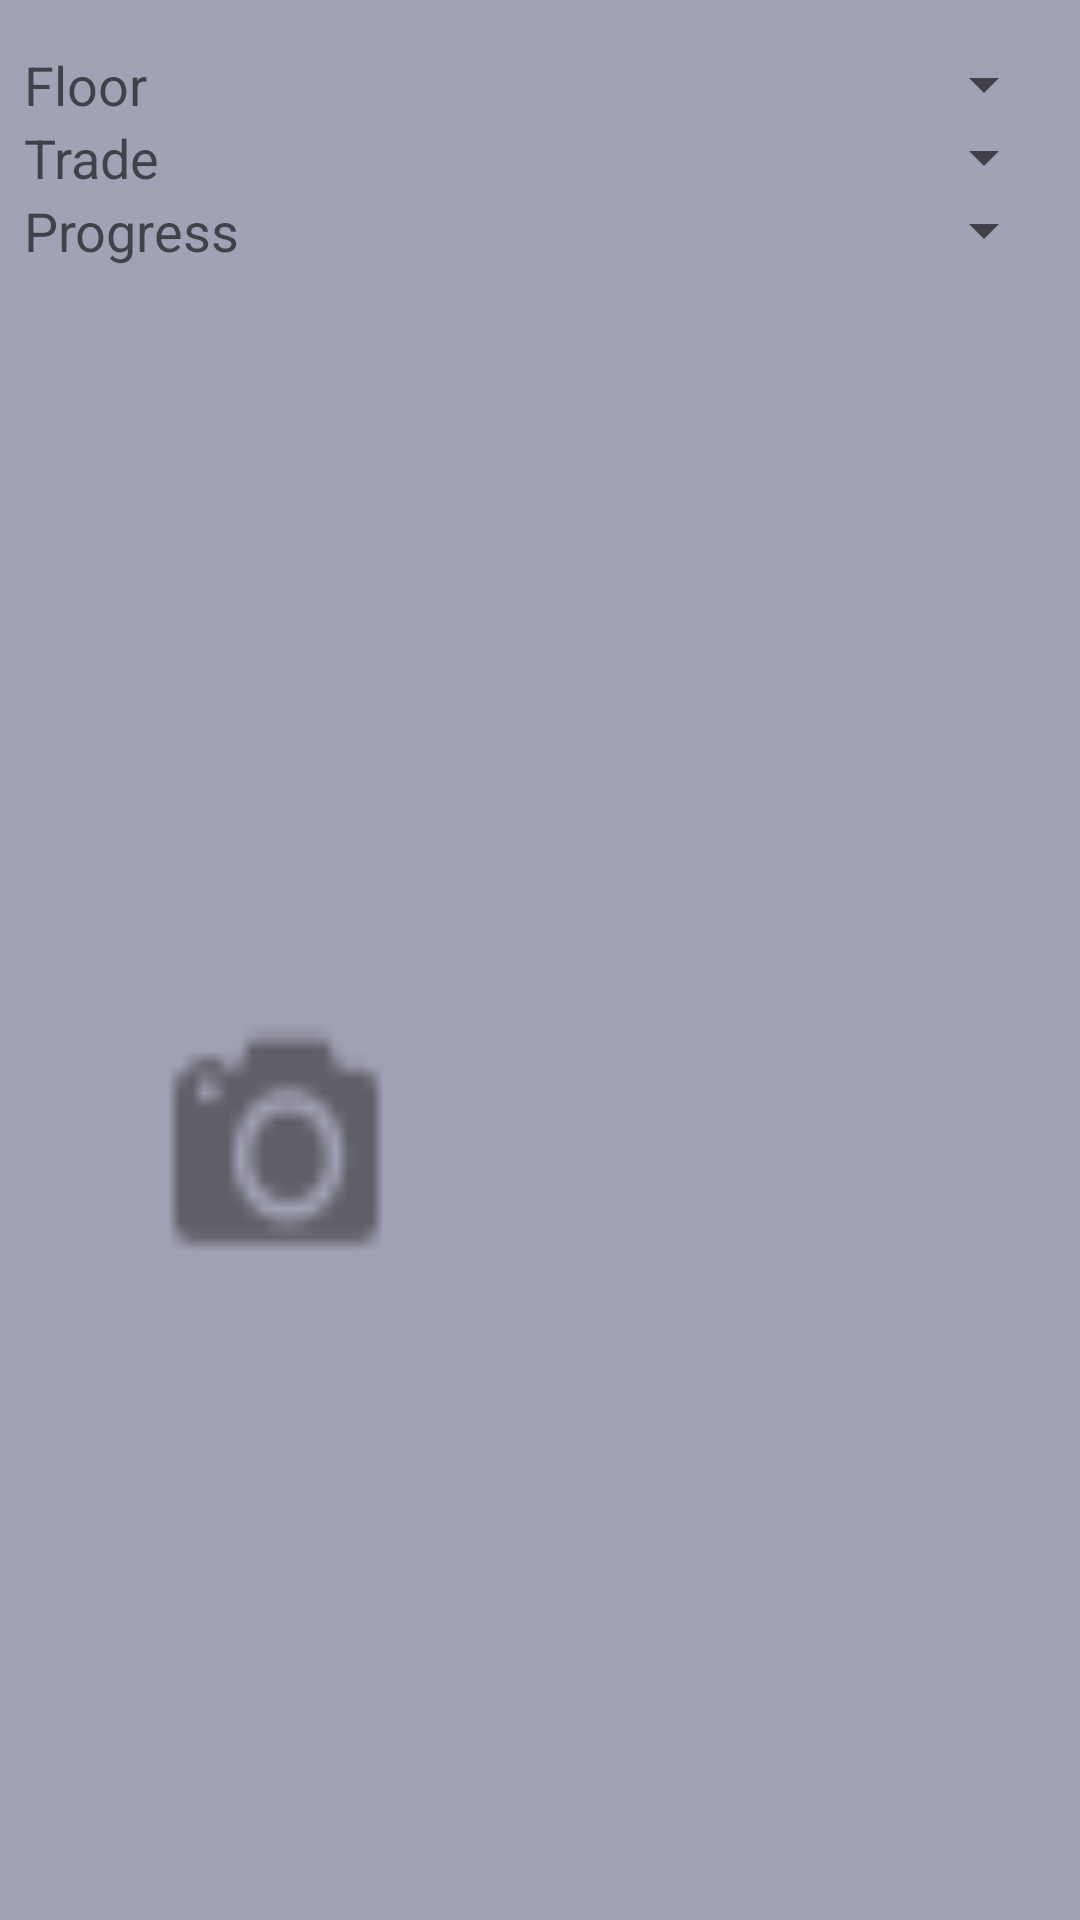

Named icons in this screenshot (1080×1920) and their centers, (x=x, y=y):
camera: (x=276, y=1141)
